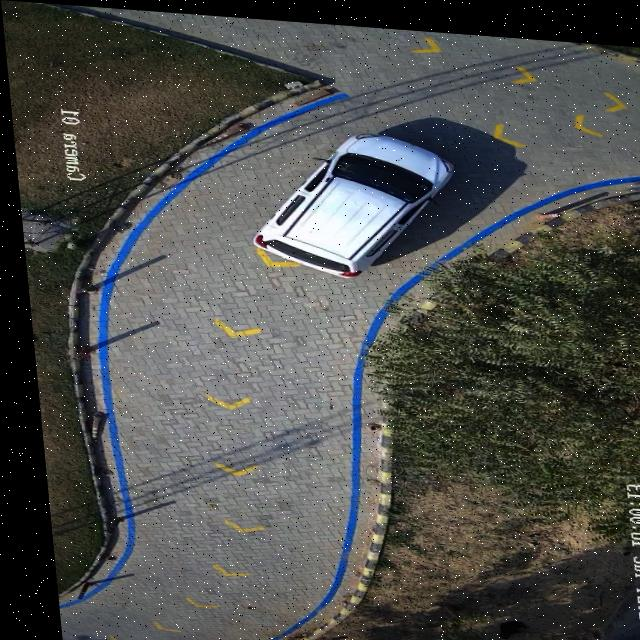car: (248, 126, 453, 274)
